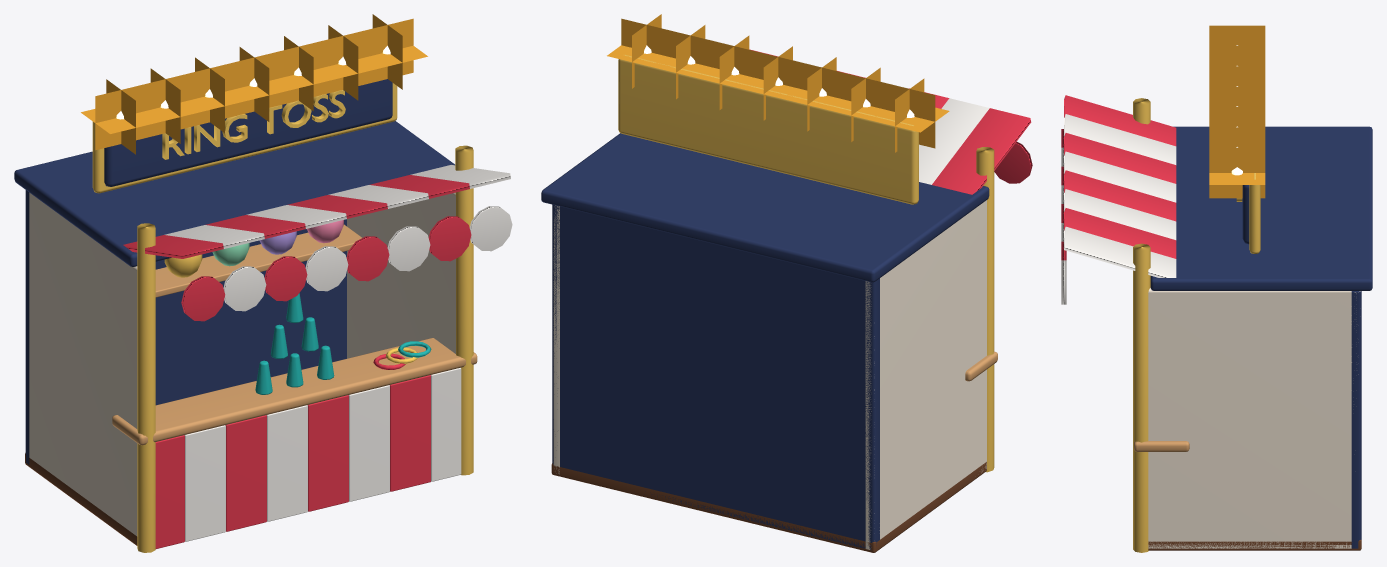
The model's file is sky_booth.glb.
3 renders of one model, left to right at view 1: azimuth 30°, elevation 25°; view 2: azimuth 150°, elevation 25°; view 3: azimuth 270°, elevation 25°, orthographic. The views are drawn at different scales.
Parts seen in each view (by area): view 1: Booth; view 2: Booth; view 3: Booth.
Boxes of the visible parts, x1=… form: Booth: x1=14, y1=14, x2=512, y2=552; Booth: x1=541, y1=14, x2=1032, y2=552; Booth: x1=1061, y1=25, x2=1372, y2=552.
Size of the model in its own units: 3.3 by 3.87 by 2.8.
